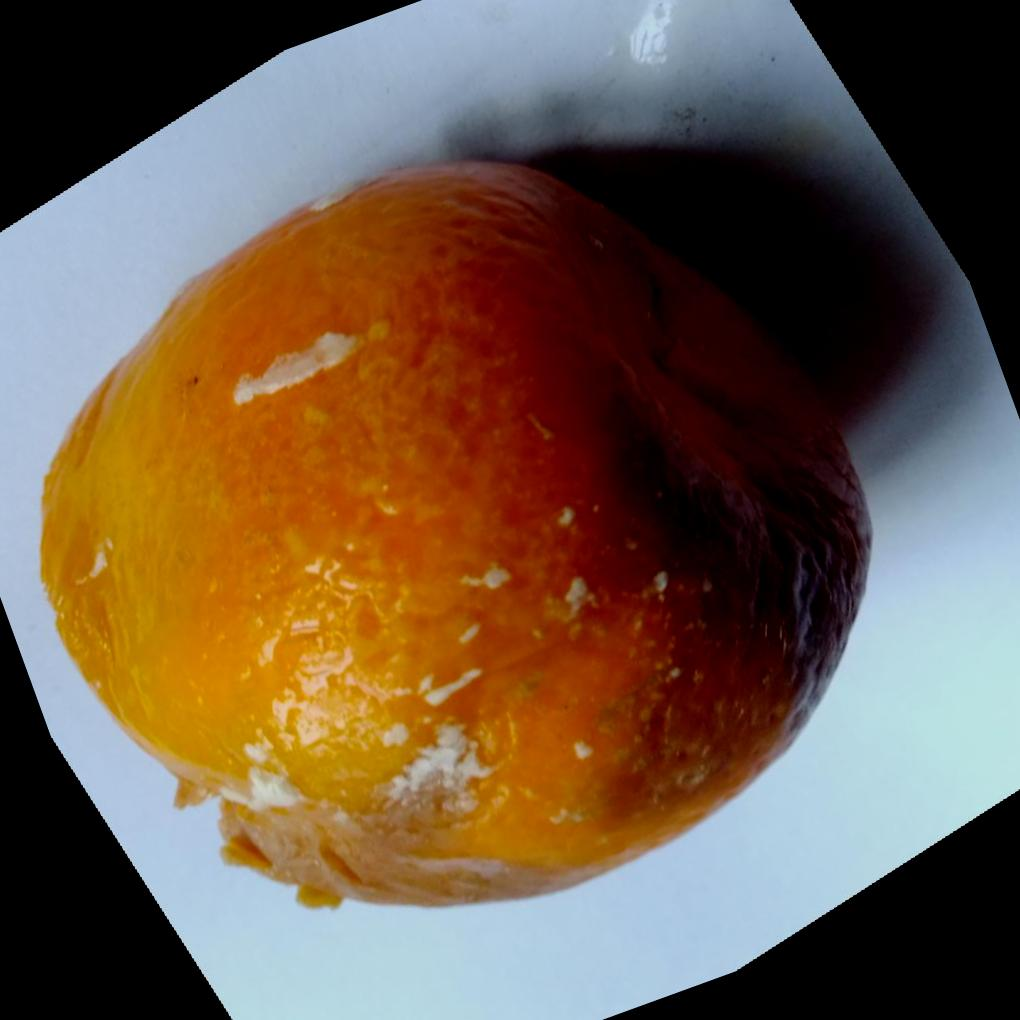FreshOrange: (33, 157, 869, 911)
